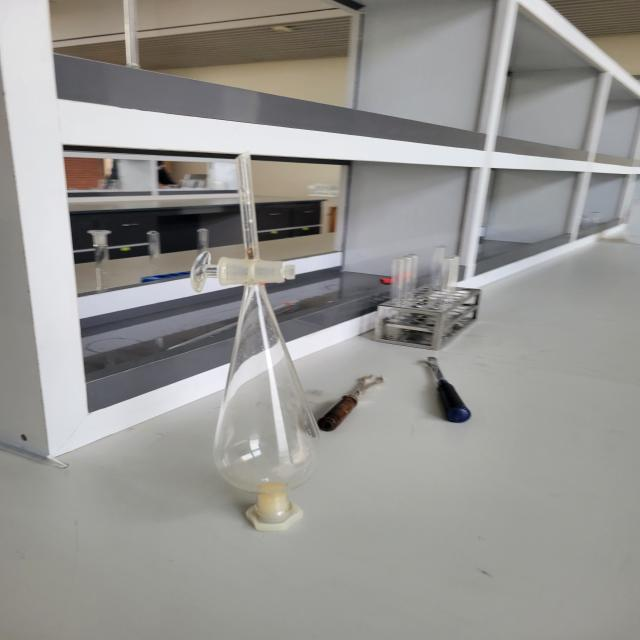Separating_Funnel: (151, 116, 353, 545)
